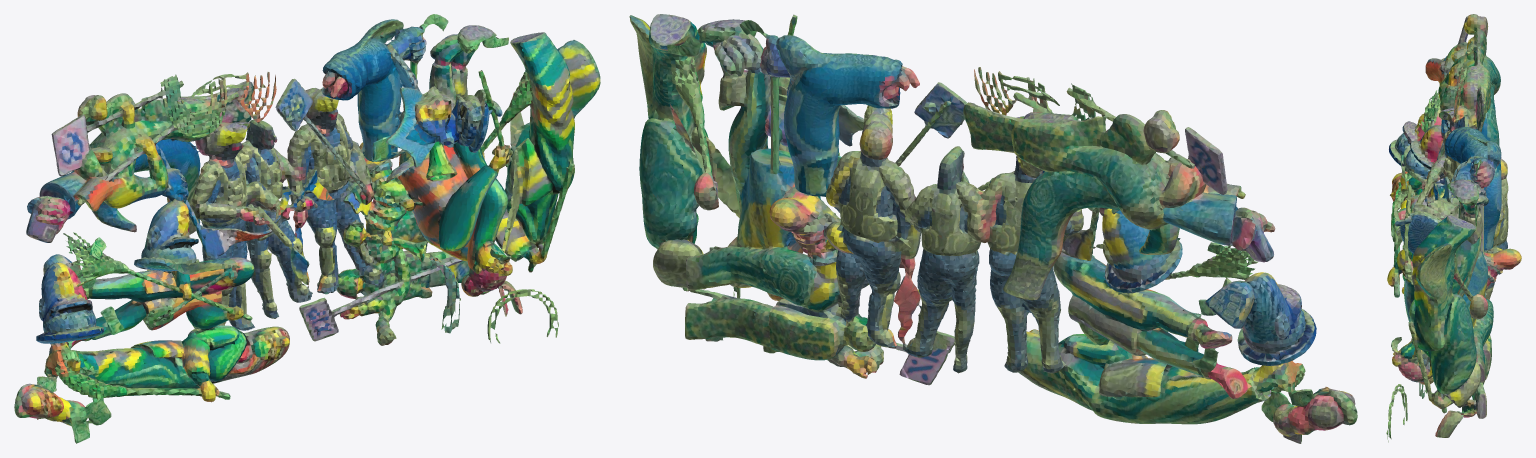
The model's file is combined_DD_v2.glb.
The picture shows the model from 3 angles, left to right: view 1: azimuth 30°, elevation 25°; view 2: azimuth 150°, elevation 25°; view 3: azimuth 270°, elevation 25°; orthographic projection. The views are drawn at different scales.
Visible parts, largest first — view 1: irloDD; view 2: irloDD; view 3: irloDD.
Part boxes in pixels (<box>): irloDD: <box>14,14,600,443</box>; irloDD: <box>629,14,1357,443</box>; irloDD: <box>1386,14,1521,442</box>.
Size of the model in its own units: 0.9994 by 0.4979 by 0.2312.
Materials: 1 (1 with a texture image).
